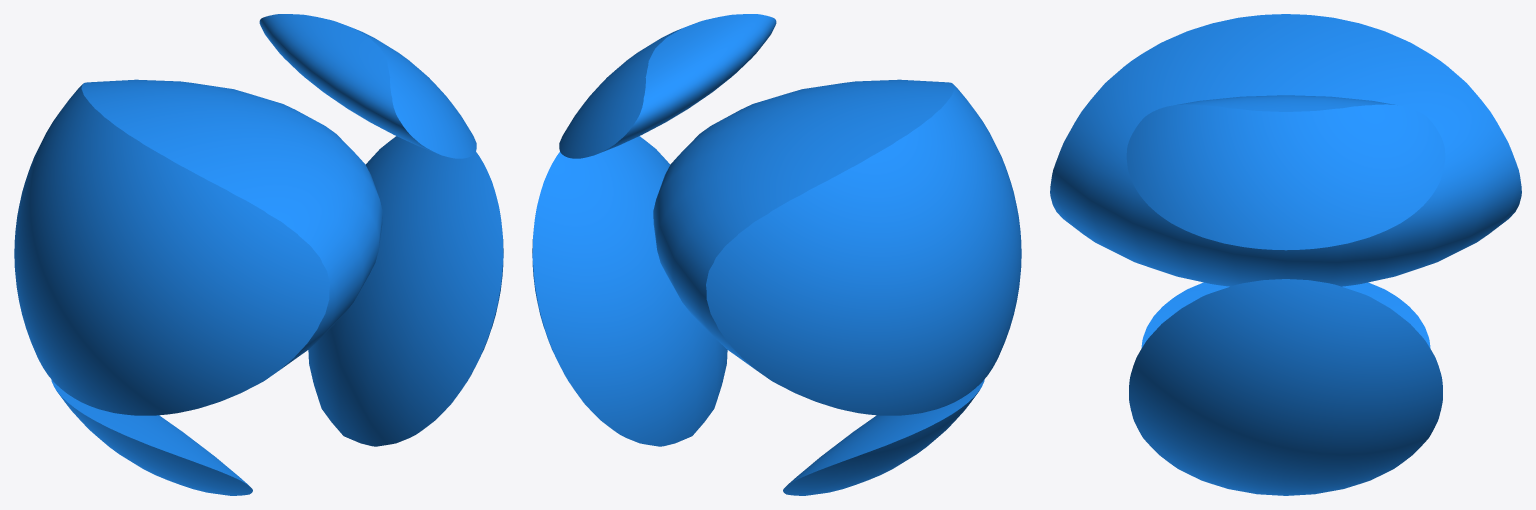
The model's file is terra.glb.
The picture shows the model from 3 angles, left to right: view 1: azimuth 30°, elevation 25°; view 2: azimuth 150°, elevation 25°; view 3: azimuth 270°, elevation 25°; orthographic projection.
Parts seen in each view (by area): view 1: Mesh_1, Mesh_2, Mesh_0, Mesh_3; view 2: Mesh_1, Mesh_2, Mesh_0, Mesh_3; view 3: Mesh_1, Mesh_2, Mesh_0, Mesh_3.
Boxes of the visible parts, x1,y1,x2,y2 form: Mesh_1: [14, 79, 382, 415]; Mesh_2: [308, 136, 503, 446]; Mesh_0: [259, 14, 476, 158]; Mesh_3: [51, 379, 252, 495]; Mesh_1: [653, 79, 1021, 415]; Mesh_2: [532, 136, 727, 446]; Mesh_0: [559, 14, 776, 158]; Mesh_3: [783, 379, 984, 495]; Mesh_1: [1050, 14, 1521, 286]; Mesh_2: [1129, 279, 1442, 495]; Mesh_0: [1126, 95, 1445, 250]; Mesh_3: [1141, 282, 1430, 348].
Size of the model in its own units: 2 by 1.77 by 1.91.
